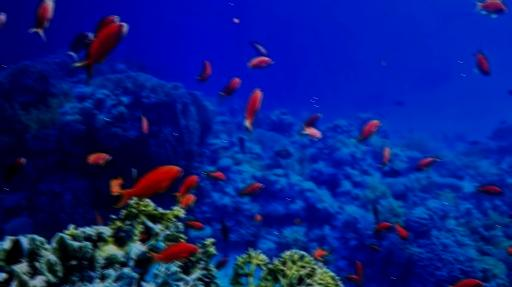Fish: (73, 22, 127, 82), (116, 165, 182, 207), (148, 242, 199, 264), (28, 0, 54, 41), (244, 88, 262, 131), (171, 175, 199, 202), (69, 32, 93, 60), (354, 120, 380, 142), (476, 0, 507, 17), (472, 48, 490, 75), (96, 15, 119, 35), (6, 158, 25, 182), (220, 77, 240, 97), (415, 156, 440, 169), (247, 56, 273, 68), (197, 60, 211, 82), (393, 222, 409, 240), (241, 183, 263, 195), (178, 193, 196, 207), (378, 146, 390, 166), (301, 127, 321, 139), (476, 185, 502, 194), (456, 278, 484, 286), (304, 113, 321, 126), (206, 171, 226, 180), (187, 220, 204, 229), (375, 223, 391, 231), (0, 12, 6, 27)
